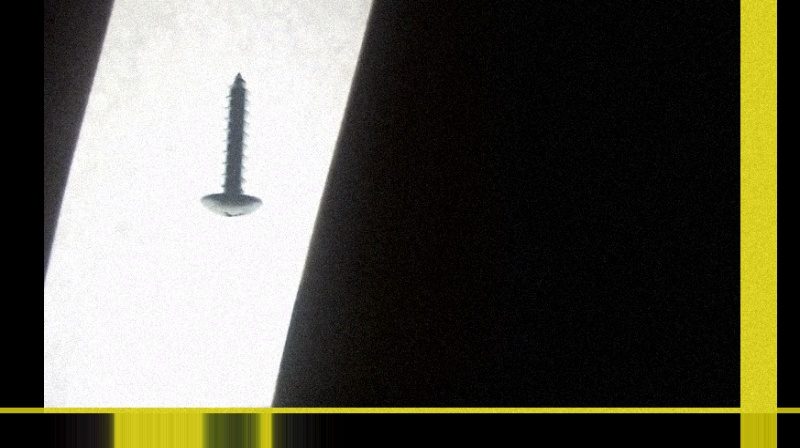S003: (196, 70, 265, 223)
